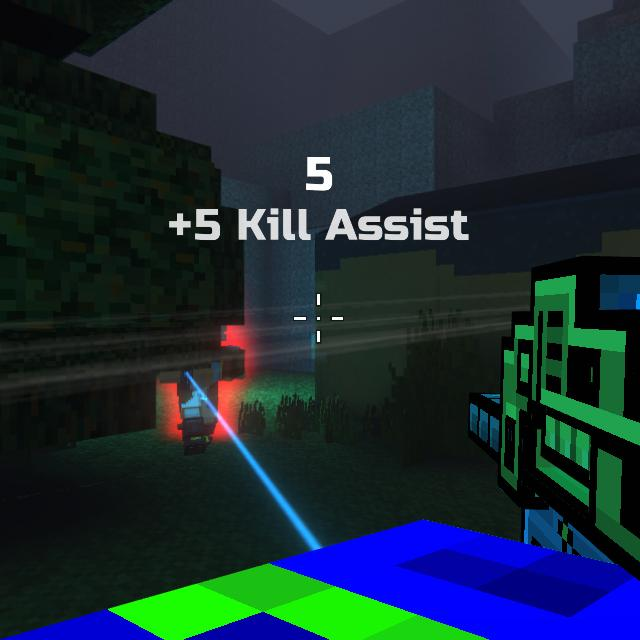Enemy: (171, 342, 249, 452)
